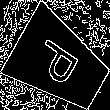P_SE: (31, 34, 88, 93)
